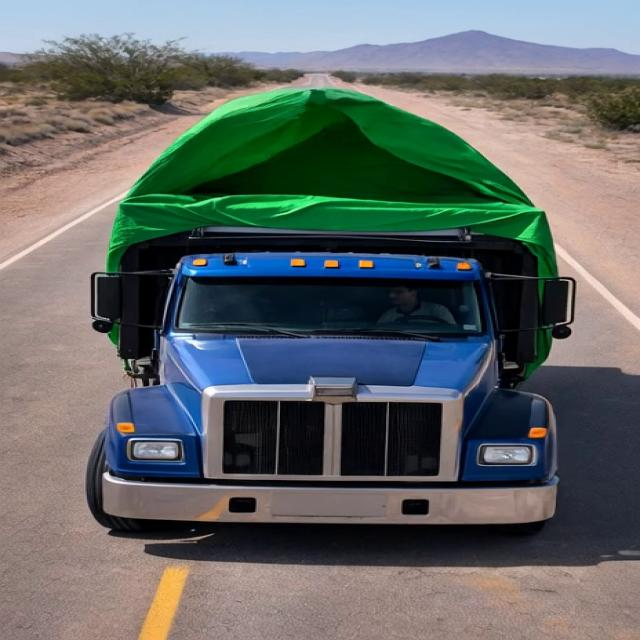trailer: (72, 74, 562, 250)
truck: (54, 42, 604, 561)
